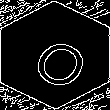O_NE: (19, 22, 91, 88)
